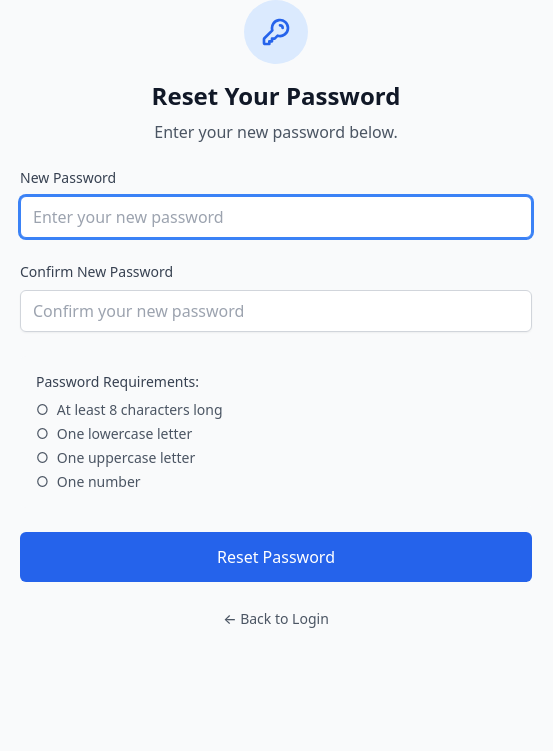
it: ResetPassword Component › Form Validation › shows error for password without lowercase letter
Type "PASSWORD123" into the password field labelled "New Password" at (276, 217), box left=20, top=196, right=532, bottom=238
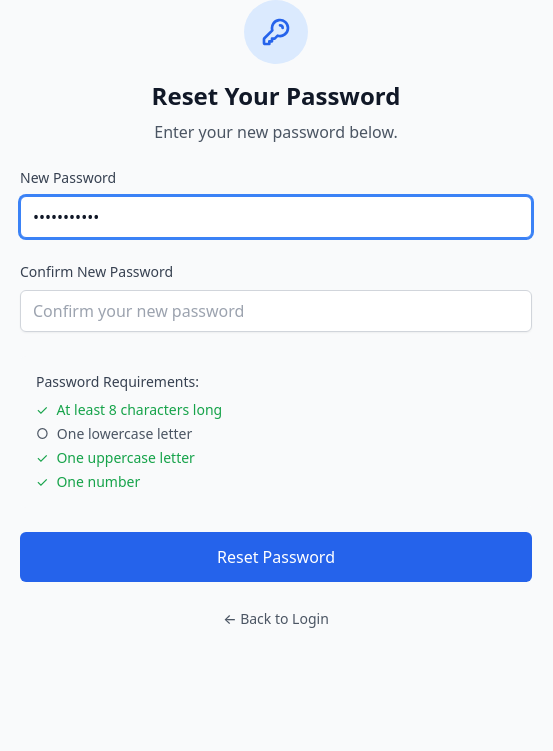
Type "PASSWORD123" into the password field labelled "Confirm New Password" at (276, 311), box left=20, top=290, right=532, bottom=332
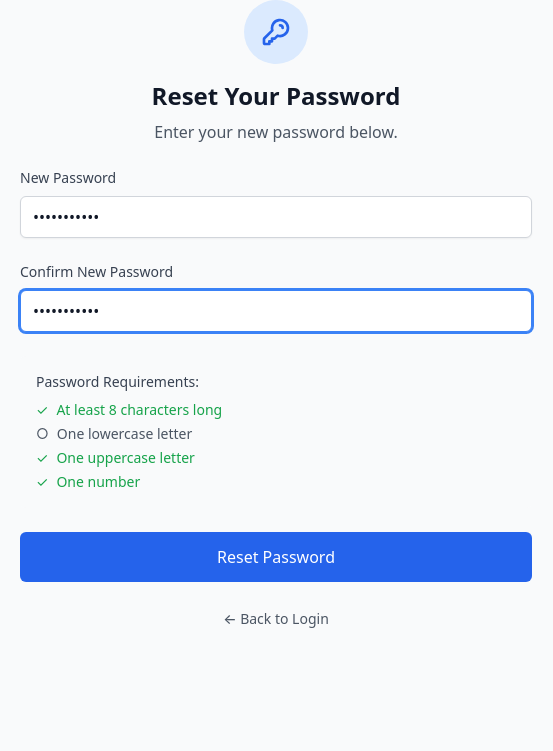
Click the button "Reset Password" at (276, 557), box left=20, top=532, right=532, bottom=582
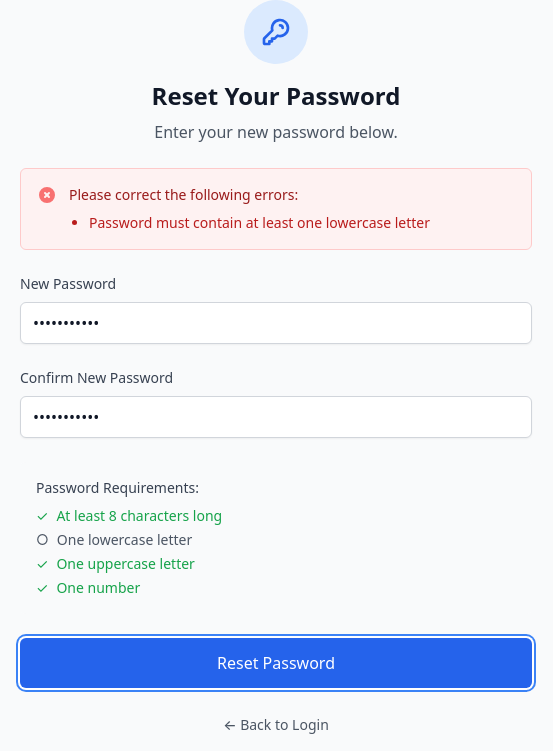
Result: the list item "Password must contain at least one lowercase letter" is shown at left=89, top=213, right=430, bottom=233
